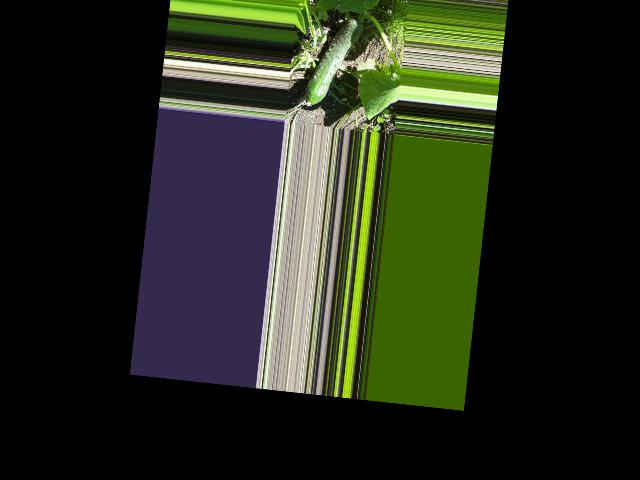cucumber: (303, 12, 364, 110)
